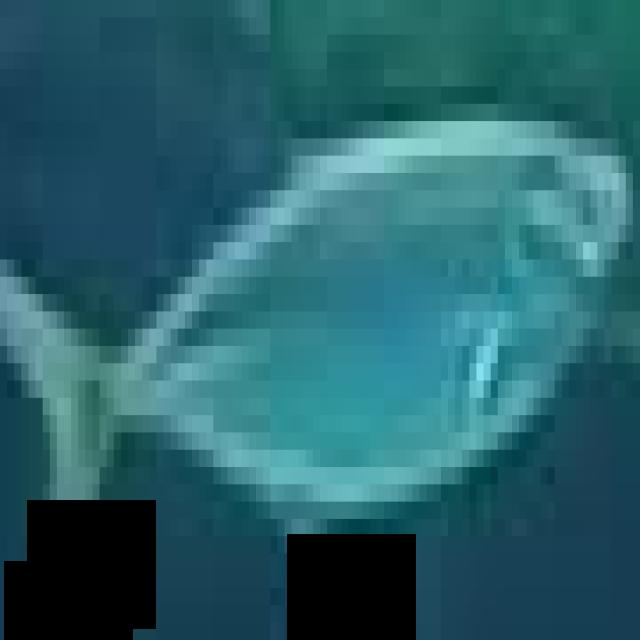fish: (7, 17, 640, 640)
